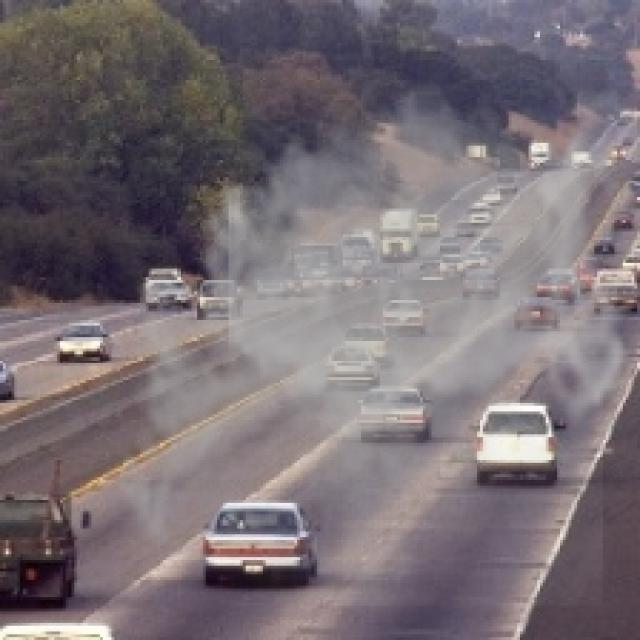smoke: (103, 63, 637, 606)
